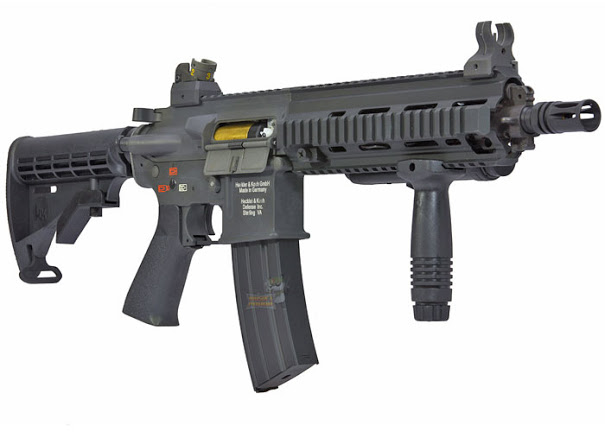gun: (3, 10, 605, 397)
